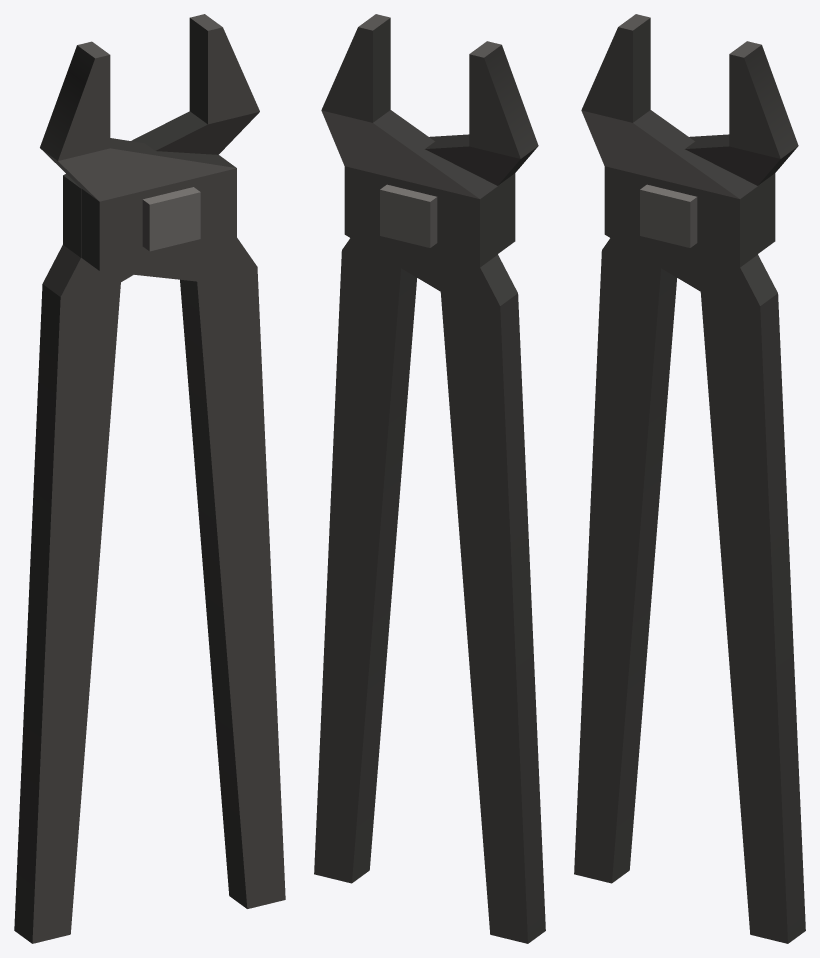
The model's file is SD_Prop_Tool_Plier_01.fbx.
The picture shows the model from 3 angles, left to right: view 1: azimuth 30°, elevation 25°; view 2: azimuth 150°, elevation 25°; view 3: azimuth 330°, elevation 25°; orthographic projection.
Visible parts, largest first — view 1: SD_Prop_Tool_Plier_01; view 2: SD_Prop_Tool_Plier_01; view 3: SD_Prop_Tool_Plier_01.
Part boxes in pixels (x1=…): SD_Prop_Tool_Plier_01: x1=14, y1=14, x2=285, y2=943; SD_Prop_Tool_Plier_01: x1=314, y1=14, x2=545, y2=943; SD_Prop_Tool_Plier_01: x1=574, y1=14, x2=805, y2=943.
Size of the model in its own units: 0.4018 by 1.44 by 0.1495.
